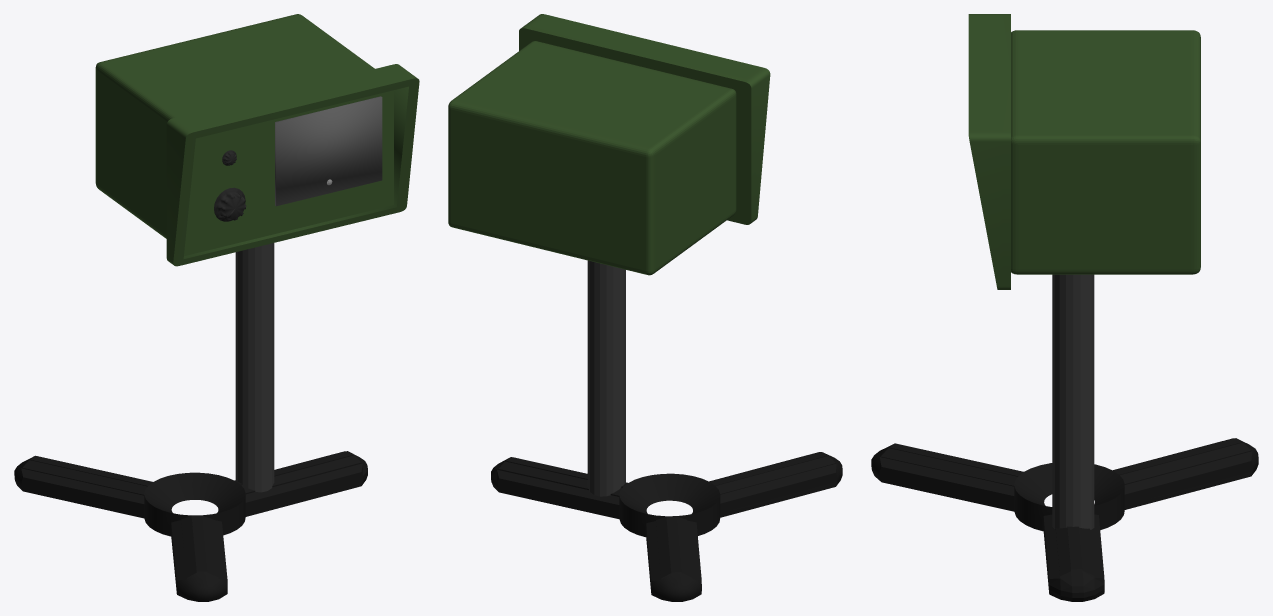
Rendered from WallaceTitrator_v3.fbx.
The picture shows the model from 3 angles, left to right: view 1: azimuth 30°, elevation 25°; view 2: azimuth 150°, elevation 25°; view 3: azimuth 270°, elevation 25°; orthographic projection. The views are drawn at different scales.
Visible parts, largest first — view 1: MainBody, MeterFacePlate, BottomButton; view 2: MainBody; view 3: MainBody.
Part boxes in pixels (x1,y1,x2,y2): MainBody: (14, 14, 419, 601); MeterFacePlate: (275, 96, 382, 206); BottomButton: (214, 187, 246, 221); MainBody: (448, 14, 842, 601); MainBody: (871, 14, 1258, 601).
Bounding box in the file's own units: 23.41 × 34.27 × 25.61.
